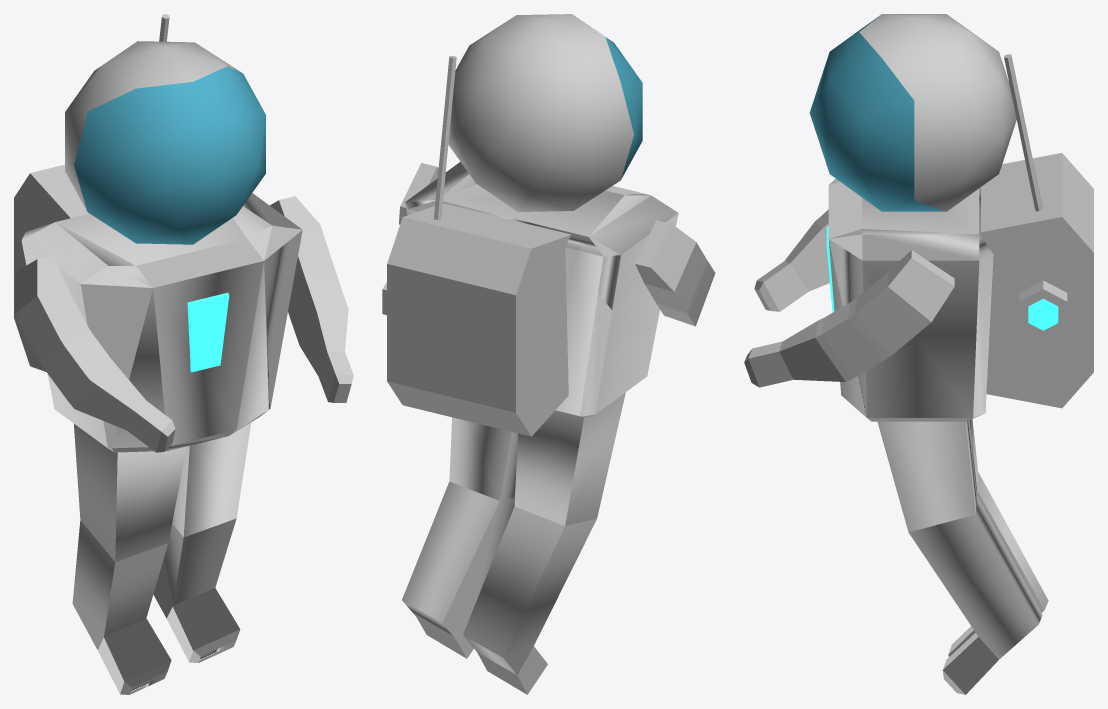
File: naut3.fbx
The picture shows the model from 3 angles, left to right: view 1: azimuth 30°, elevation 25°; view 2: azimuth 150°, elevation 25°; view 3: azimuth 270°, elevation 25°; orthographic projection. The views are drawn at different scales.
Visible parts, largest first — view 1: Plane, Visor, leg_right, leg_left, hand_right, hand_left, Sphere, Backpack, Cube; view 2: Backpack, Sphere, leg_right, Plane, leg_left, hand_right, Visor, hand_left; view 3: Backpack, Plane, leg_left, Sphere, Visor, hand_left, hand_right, leg_right.
Boxes of the visible parts, bbox=[...] form: Plane: bbox=[21, 193, 302, 452]; Visor: bbox=[74, 66, 265, 244]; leg_right: bbox=[72, 424, 186, 694]; leg_left: bbox=[153, 422, 251, 662]; hand_right: bbox=[15, 255, 175, 452]; hand_left: bbox=[270, 196, 353, 402]; Sphere: bbox=[65, 41, 241, 210]; Backpack: bbox=[14, 14, 169, 371]; Cube: bbox=[187, 292, 229, 372]; Backpack: bbox=[382, 56, 570, 436]; Sphere: bbox=[448, 14, 633, 211]; leg_right: bbox=[463, 392, 625, 694]; Plane: bbox=[405, 162, 678, 417]; leg_left: bbox=[402, 417, 517, 658]; hand_right: bbox=[635, 220, 715, 326]; Visor: bbox=[605, 37, 642, 179]; hand_left: bbox=[399, 163, 438, 224]; Backpack: bbox=[981, 54, 1093, 408]; Plane: bbox=[828, 178, 993, 421]; leg_left: bbox=[877, 420, 1042, 694]; Sphere: bbox=[859, 14, 1016, 211]; Visor: bbox=[809, 16, 945, 211]; hand_left: bbox=[744, 250, 954, 387]; hand_right: bbox=[754, 209, 829, 311]; leg_right: bbox=[948, 419, 1048, 657].
Size of the model in its own units: 99.23 by 223 by 107.
